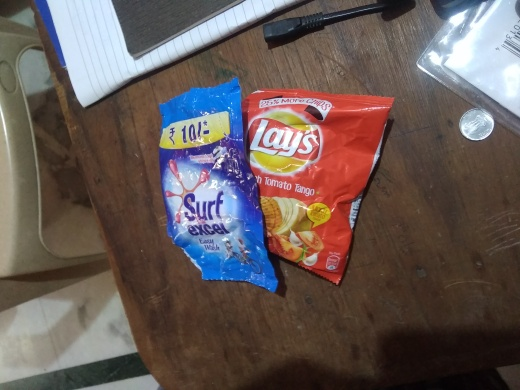lays: (240, 83, 402, 299)
surf: (140, 96, 277, 300)
